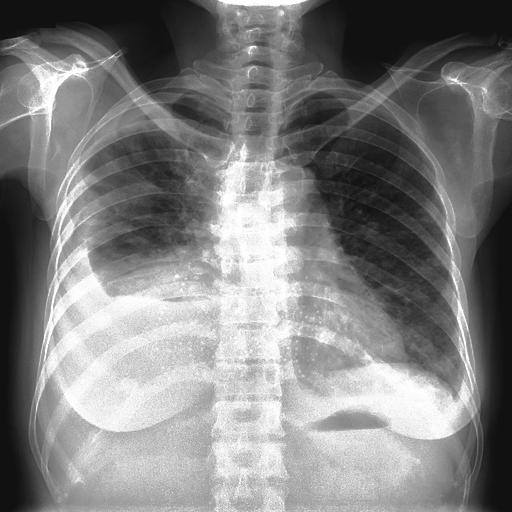Aortic enlargement: (92, 101, 219, 298)
Calcification: (93, 263, 213, 303), (97, 93, 174, 121)
ILD: (92, 101, 219, 298), (327, 188, 454, 380), (375, 290, 470, 377)
Pleural effusion: (43, 97, 199, 367), (423, 357, 483, 421)
Pleural thickening: (87, 149, 216, 295)
